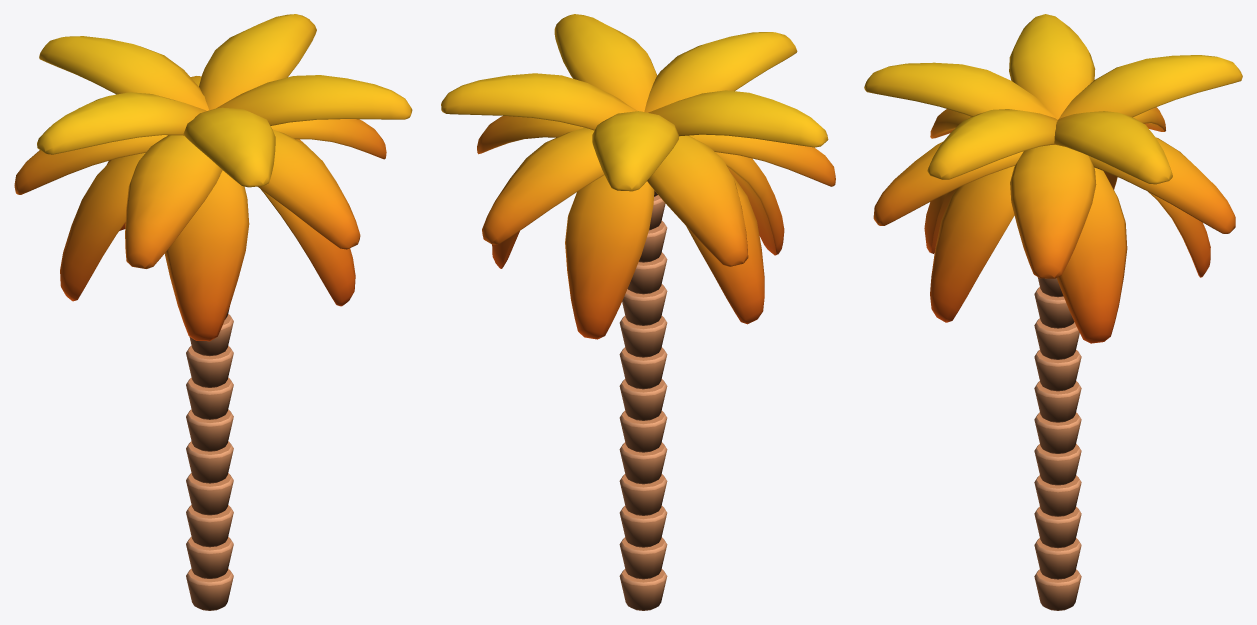
The model's file is lpb_tree_2_b.fbx.
3 renders of one model, left to right at view 1: azimuth 30°, elevation 25°; view 2: azimuth 150°, elevation 25°; view 3: azimuth 270°, elevation 25°, orthographic.
Visible parts, largest first — view 1: ap_tree_2.001; view 2: ap_tree_2.001; view 3: ap_tree_2.001.
Part boxes in pixels (x1,y1,x2,y2): ap_tree_2.001: [14, 14, 412, 610]; ap_tree_2.001: [441, 14, 835, 610]; ap_tree_2.001: [864, 14, 1242, 610].
Bounding box in the file's own units: 404 × 594 × 390.
